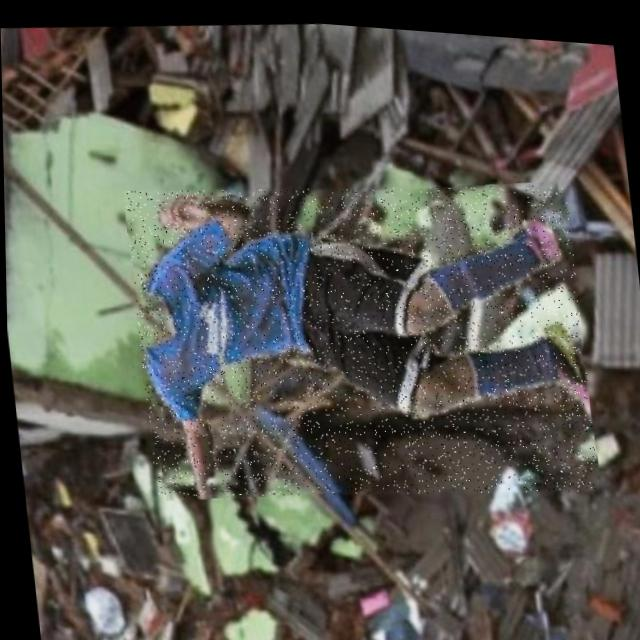Person in Rubble: (121, 149, 597, 519)
